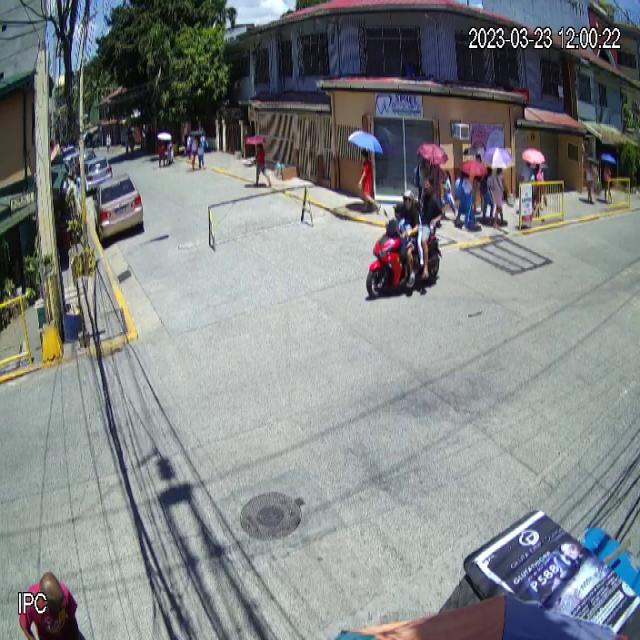Motorcycle: (365, 208, 444, 298)
